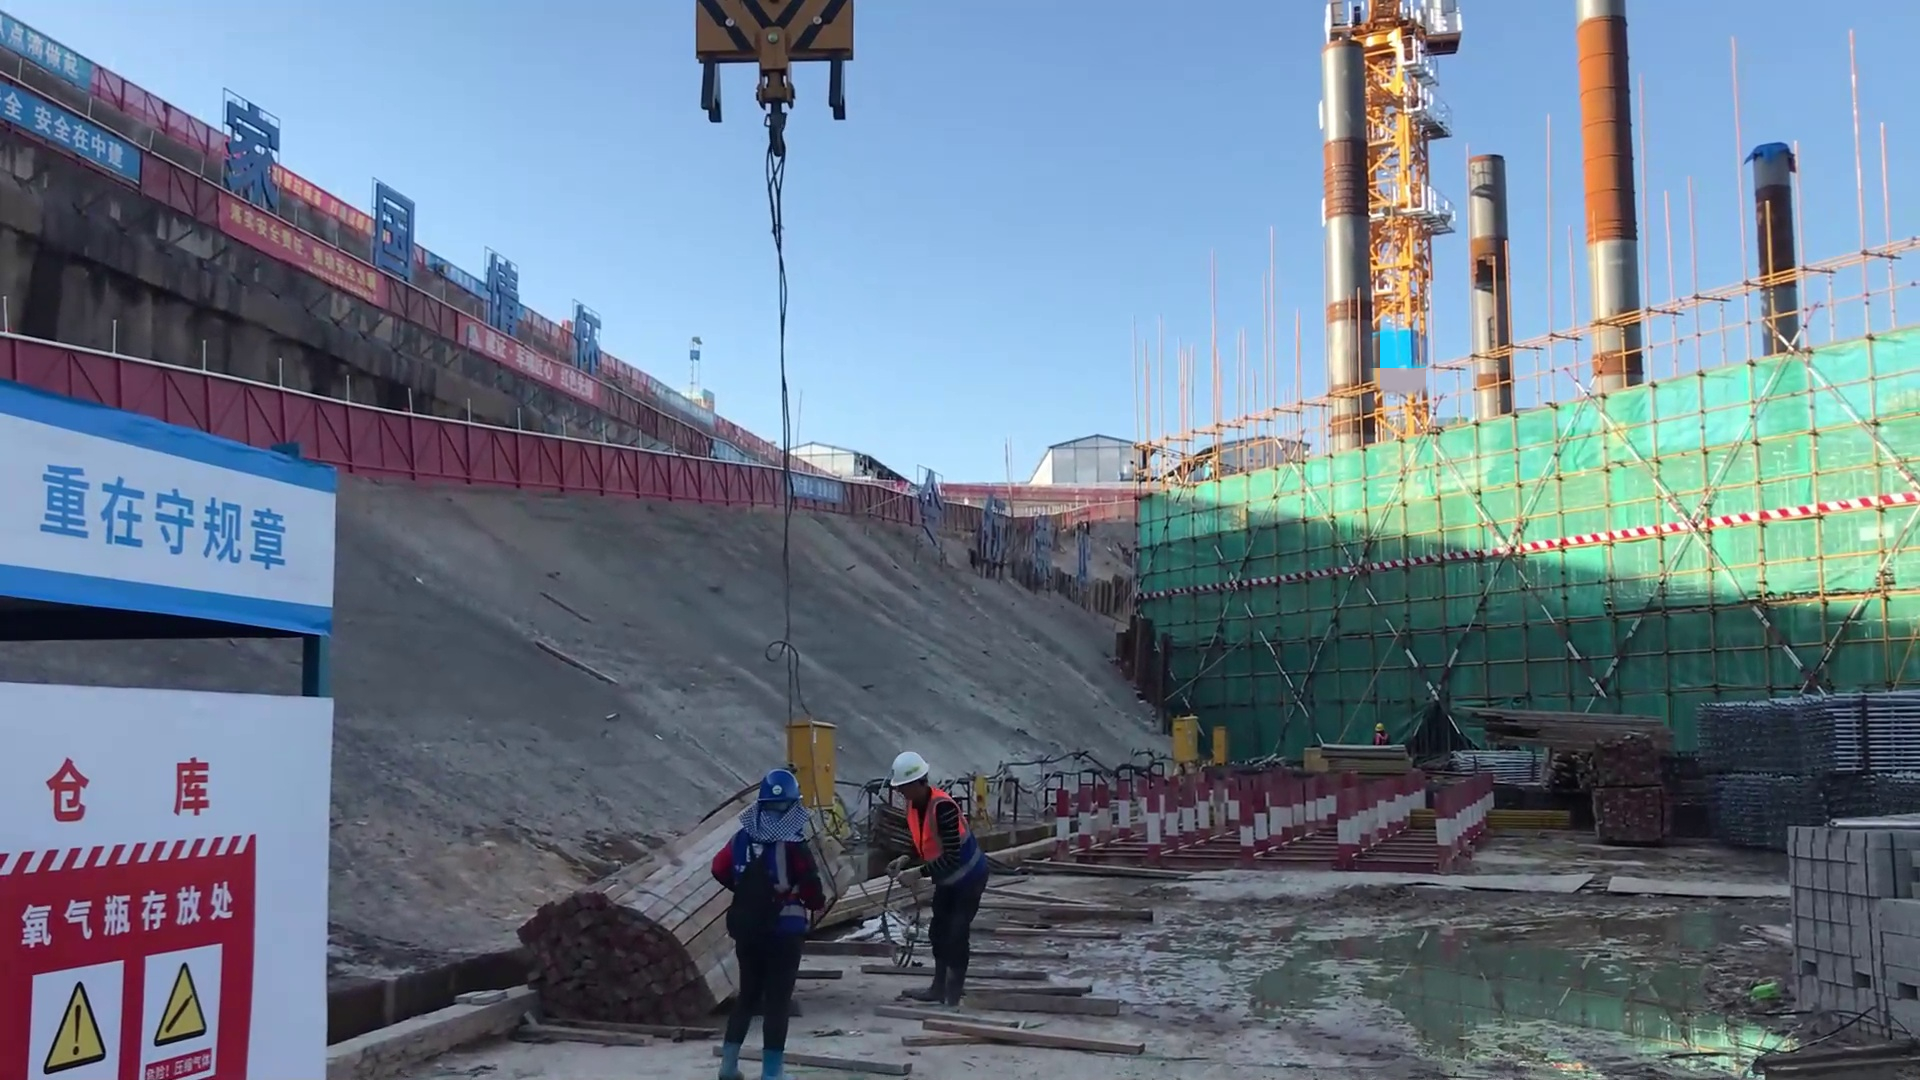brick: (1785, 813, 1920, 1028)
ebox: (793, 709, 844, 811), (1172, 717, 1195, 766), (1213, 723, 1227, 764)
fence: (325, 398, 711, 507), (710, 465, 795, 504)
helmet: (722, 751, 805, 829), (881, 745, 926, 803), (1374, 722, 1384, 734)
hook: (680, 1, 866, 178)
person: (707, 755, 818, 1080), (880, 747, 1001, 1020), (1369, 720, 1392, 750)
scaffold: (1699, 683, 1920, 774), (1703, 767, 1786, 843)
slogan: (10, 820, 280, 1080), (26, 419, 300, 589), (210, 189, 391, 334), (1, 94, 152, 190)
vest: (904, 800, 966, 866)
wood: (522, 837, 707, 1029), (1467, 702, 1658, 761)
